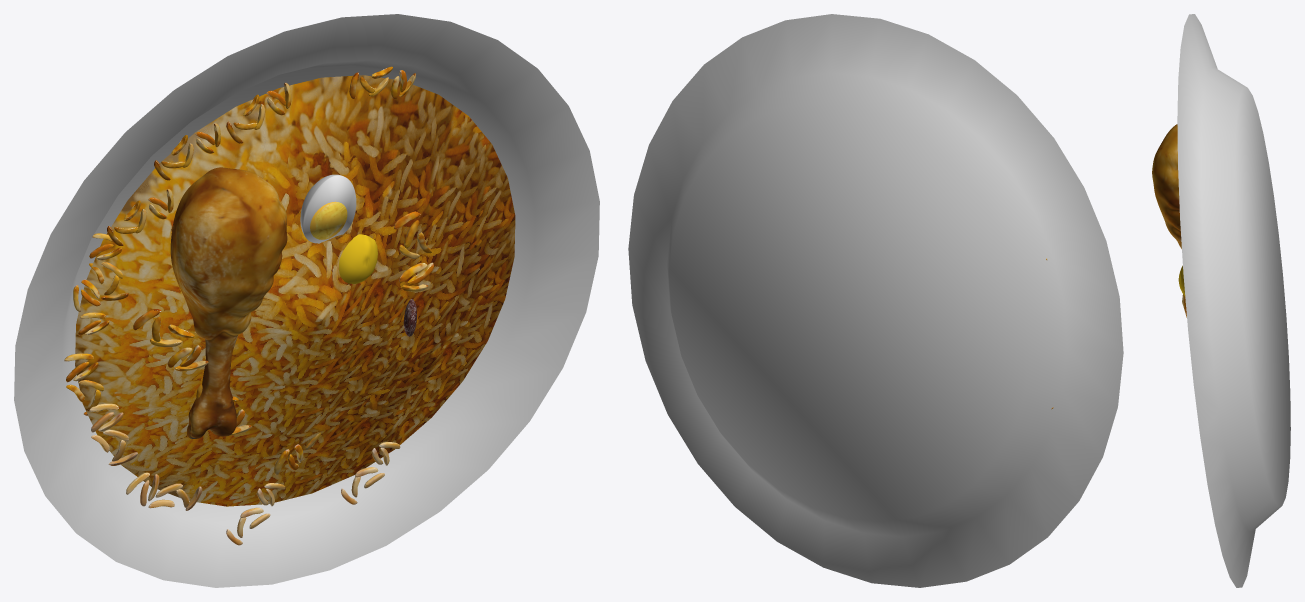
The model's file is budget_chick_bryani.glb.
3 views of the same model, side by side, from view 1: azimuth 30°, elevation 25°; view 2: azimuth 150°, elevation 25°; view 3: azimuth 270°, elevation 25° (orthographic). The views are drawn at different scales.
Parts seen in each view (by area): view 1: Cone, Circle.002, 15513_Fried_Chicken_Drumstick_v1.001, Sphere, Sphere.001, Plane.025, Plane.029, Plane.006, Plane.003, Plane.011, Plane.004, Plane.012 (+5 smaller); view 2: Circle.002; view 3: Circle.002, 15513_Fried_Chicken_Drumstick_v1.001.
Boxes of the visible parts, x1,y1,x2,y2 form: Cone: (75, 75, 515, 506); Circle.002: (14, 14, 599, 587); 15513_Fried_Chicken_Drumstick_v1.001: (170, 167, 287, 438); Sphere: (300, 174, 356, 243); Sphere.001: (339, 234, 377, 283); Plane.025: (133, 308, 208, 371); Plane.029: (394, 211, 433, 291); Plane.006: (126, 472, 202, 510); Plane.003: (89, 403, 137, 465); Plane.011: (226, 82, 291, 143); Plane.004: (64, 353, 103, 415); Plane.012: (349, 66, 415, 99); Circle.002: (628, 14, 1123, 587); Circle.002: (1177, 14, 1290, 587); 15513_Fried_Chicken_Drumstick_v1.001: (1152, 124, 1181, 248).
Bounding box in the file's own units: 7.81 × 7.77 × 1.88.
Materials: 24 (21 with a texture image).
